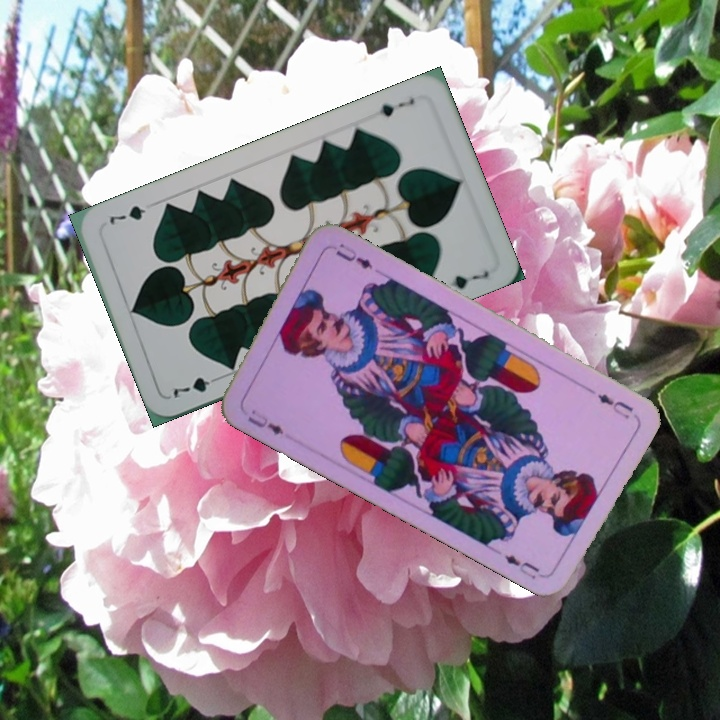EU: (593, 389, 636, 423), (243, 405, 287, 438)
G7: (169, 371, 224, 401), (375, 94, 417, 120)
